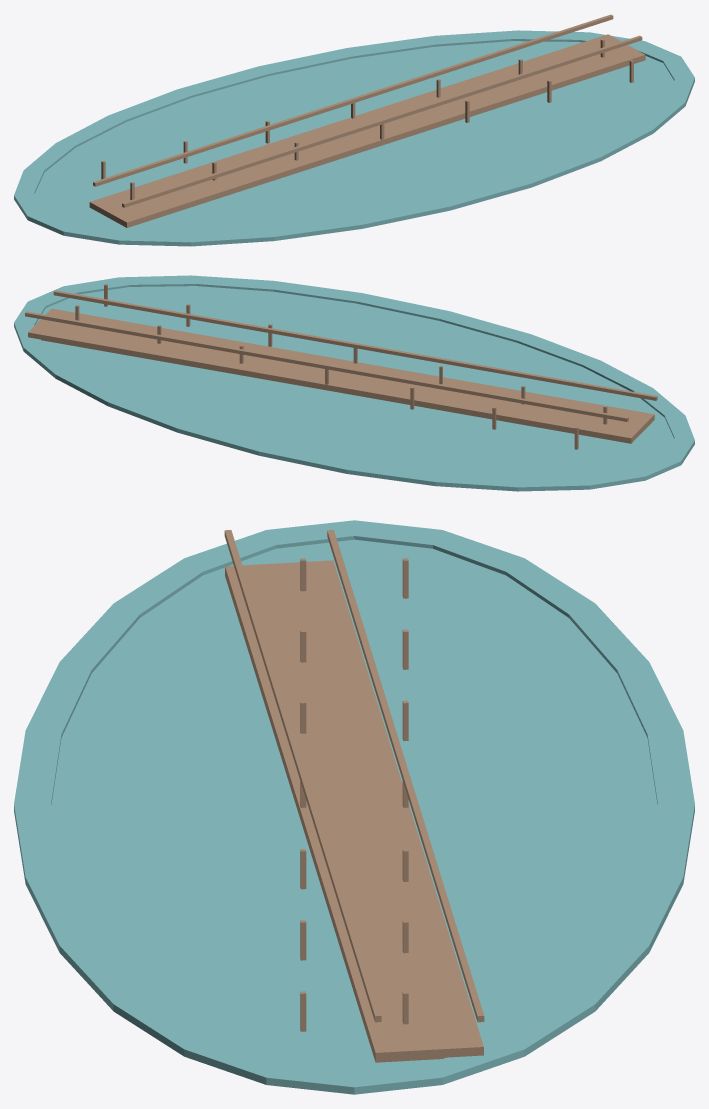
File: huashan-pond-boardwalk-massing.glb
The picture shows the model from 3 angles, top to bottom: view 1: azimuth 30°, elevation 25°; view 2: azimuth 150°, elevation 25°; view 3: azimuth 270°, elevation 25°; orthographic projection. The views are drawn at different scales.
Visible parts, largest first — view 1: huashan-pond-boardwalk-water-massing, huashan-pond-boardwalk-wood-massing; view 2: huashan-pond-boardwalk-water-massing, huashan-pond-boardwalk-wood-massing; view 3: huashan-pond-boardwalk-water-massing, huashan-pond-boardwalk-wood-massing.
Boxes of the visible parts, bbox=[...] form: huashan-pond-boardwalk-water-massing: bbox=[14, 30, 694, 246]; huashan-pond-boardwalk-wood-massing: bbox=[89, 14, 645, 227]; huashan-pond-boardwalk-water-massing: bbox=[14, 275, 694, 491]; huashan-pond-boardwalk-wood-massing: bbox=[25, 284, 657, 449]; huashan-pond-boardwalk-water-massing: bbox=[14, 520, 694, 1094]; huashan-pond-boardwalk-wood-massing: bbox=[224, 530, 484, 1062].
Bounding box in the file's own units: 19.9 × 0.81 × 10.1.
